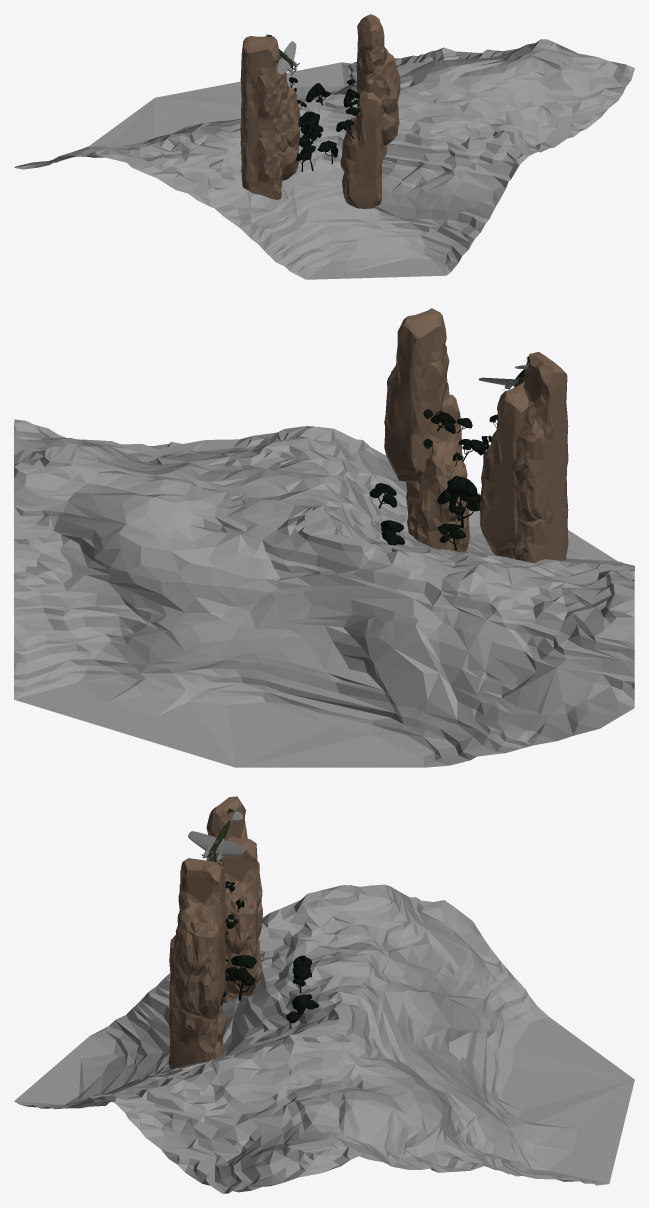
File: renderscene_base.FBX
3 renders of one model, top to bottom at view 1: azimuth 30°, elevation 25°; view 2: azimuth 150°, elevation 25°; view 3: azimuth 270°, elevation 25°, orthographic. The views are drawn at different scales.
Parts seen in each view (by area): view 1: renderscene_94, renderscene_113, renderscene_115, renderscene_112, renderscene_114, renderscene_01; view 2: renderscene_94, renderscene_112, renderscene_115, renderscene_01, renderscene_113, renderscene_114; view 3: renderscene_94, renderscene_112, renderscene_01, renderscene_113, renderscene_115.
Part boxes in pixels (x1=…): renderscene_94: x1=14, y1=39, x2=634, y2=279; renderscene_113: x1=340, y1=90, x2=386, y2=208; renderscene_115: x1=240, y1=36, x2=282, y2=156; renderscene_112: x1=356, y1=14, x2=400, y2=145; renderscene_114: x1=240, y1=114, x2=282, y2=199; renderscene_01: x1=278, y1=58, x2=300, y2=180; renderscene_94: x1=14, y1=419, x2=634, y2=767; renderscene_112: x1=384, y1=308, x2=449, y2=482; renderscene_115: x1=512, y1=352, x2=568, y2=521; renderscene_01: x1=479, y1=381, x2=528, y2=557; renderscene_113: x1=406, y1=394, x2=469, y2=551; renderscene_114: x1=508, y1=469, x2=568, y2=563; renderscene_94: x1=14, y1=884, x2=634, y2=1193; renderscene_112: x1=171, y1=858, x2=225, y2=1019; renderscene_01: x1=213, y1=838, x2=258, y2=996; renderscene_113: x1=168, y1=935, x2=226, y2=1069; renderscene_115: x1=206, y1=796, x2=262, y2=939.
Size of the model in its own units: 2206 by 771 by 1801.
